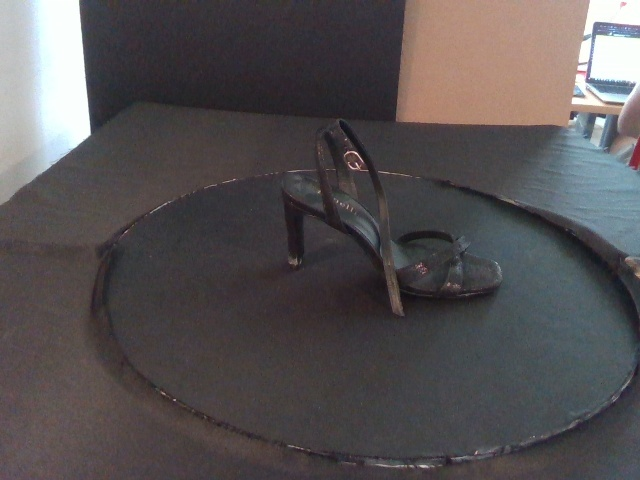shoe: (280, 117, 504, 318)
